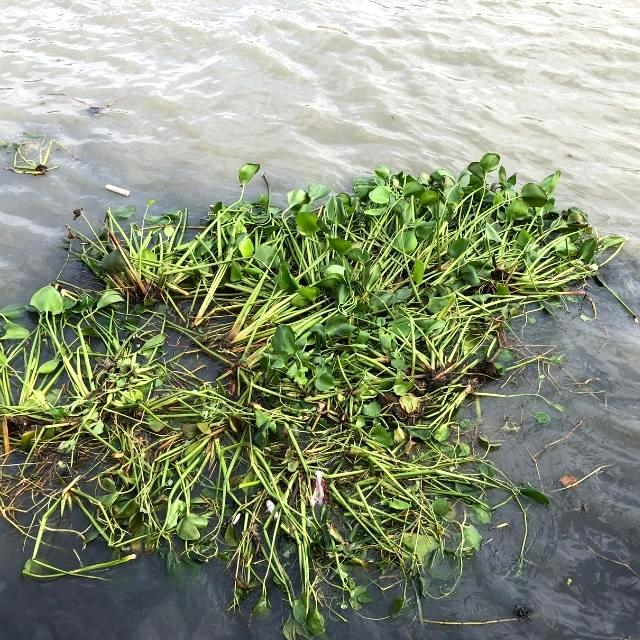water-hyacinth: (1, 152, 638, 640), (8, 129, 69, 179)
